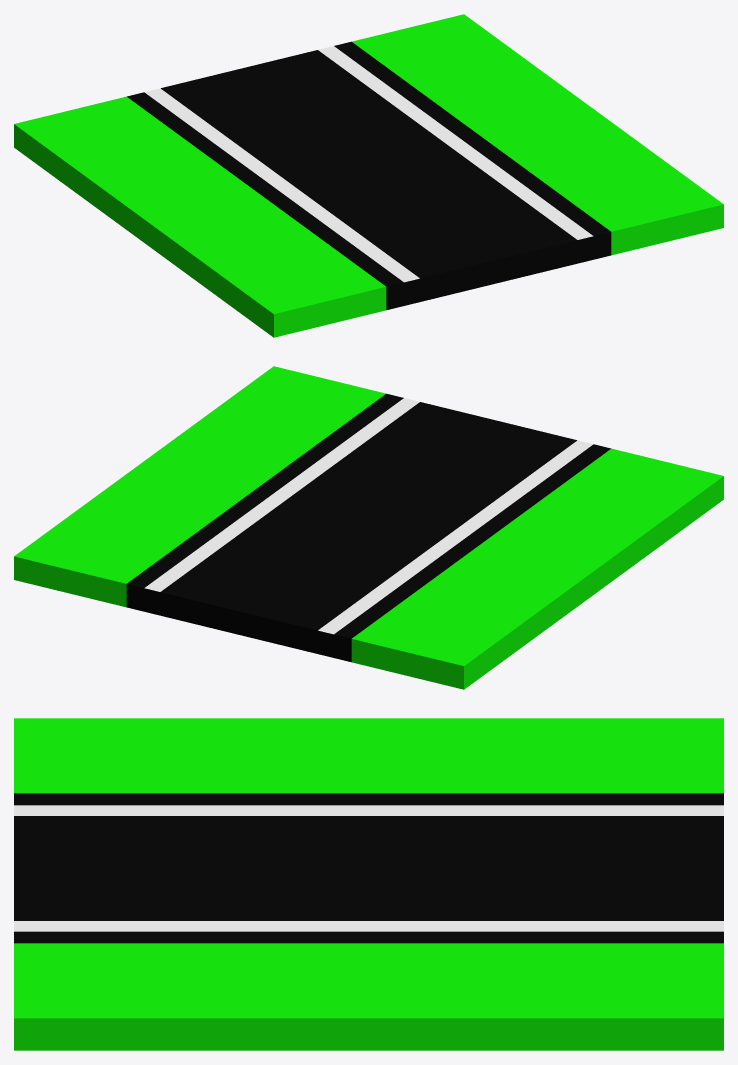
Rendered from halfroad_export.fbx.
The picture shows the model from 3 angles, top to bottom: view 1: azimuth 30°, elevation 25°; view 2: azimuth 150°, elevation 25°; view 3: azimuth 270°, elevation 25°; orthographic projection. The views are drawn at different scales.
Visible parts, largest first — view 1: Road, Grass2, Grass1; view 2: Road, Grass2, Grass1; view 3: Road, Grass1, Grass2.
Boxes of the visible parts, x1,y1,x2,y2 form: Road: (127,41,611,310); Grass2: (14,96,386,337); Grass1: (352,14,723,255); Road: (126,393,610,662); Grass2: (351,448,723,689); Grass1: (14,366,385,607); Road: (14,793,723,943); Grass1: (14,943,723,1050); Grass2: (14,718,723,793).
Size of what is drawn, in the model's own units: 2000 by 100 by 2000.
